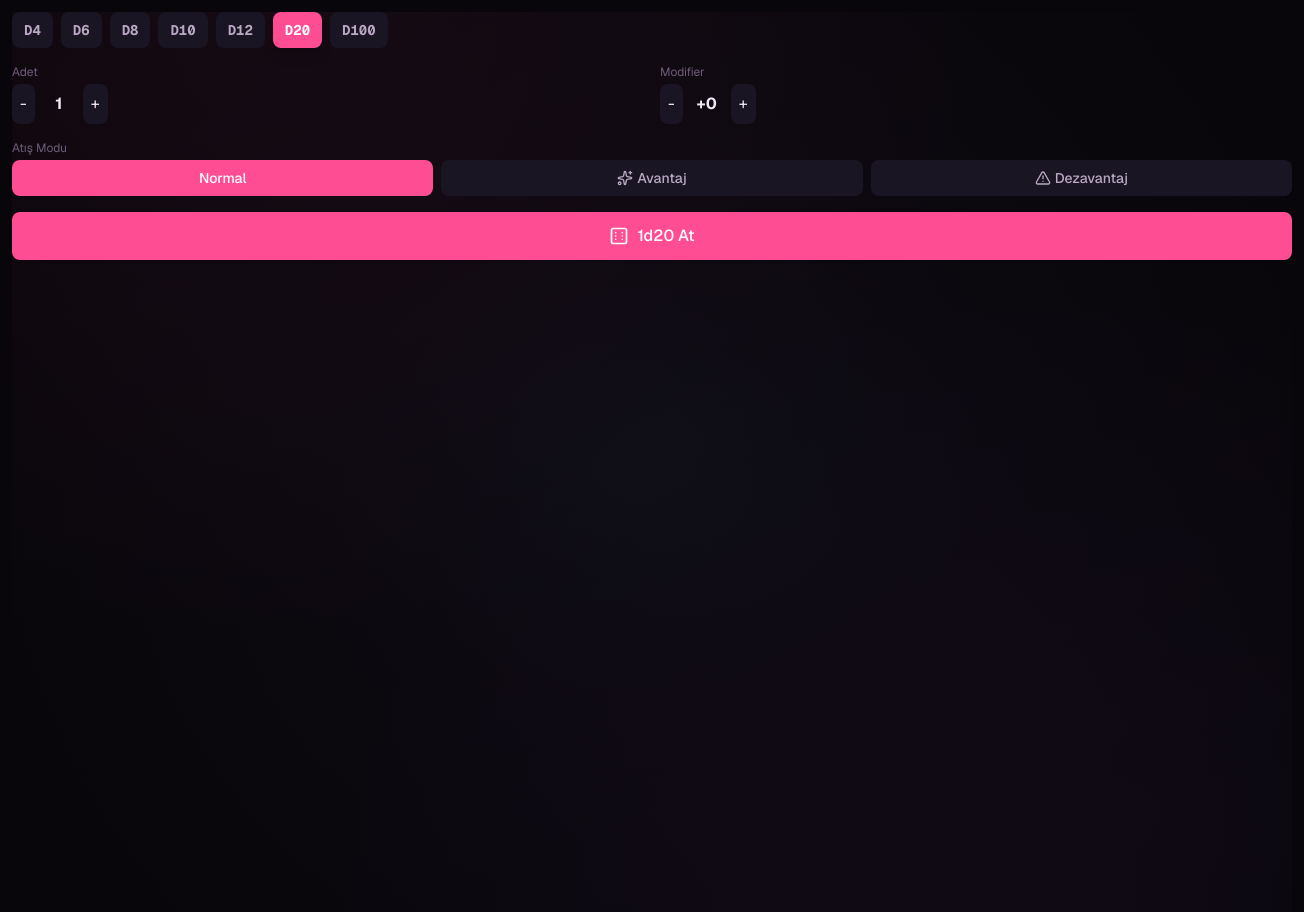
DiceRoller › increments count when + is clicked
# Select d6 first so advantage mode buttons don't show
Click the button "D6".
click(81, 30)  # box top-left (61, 12), bottom-right (102, 48)
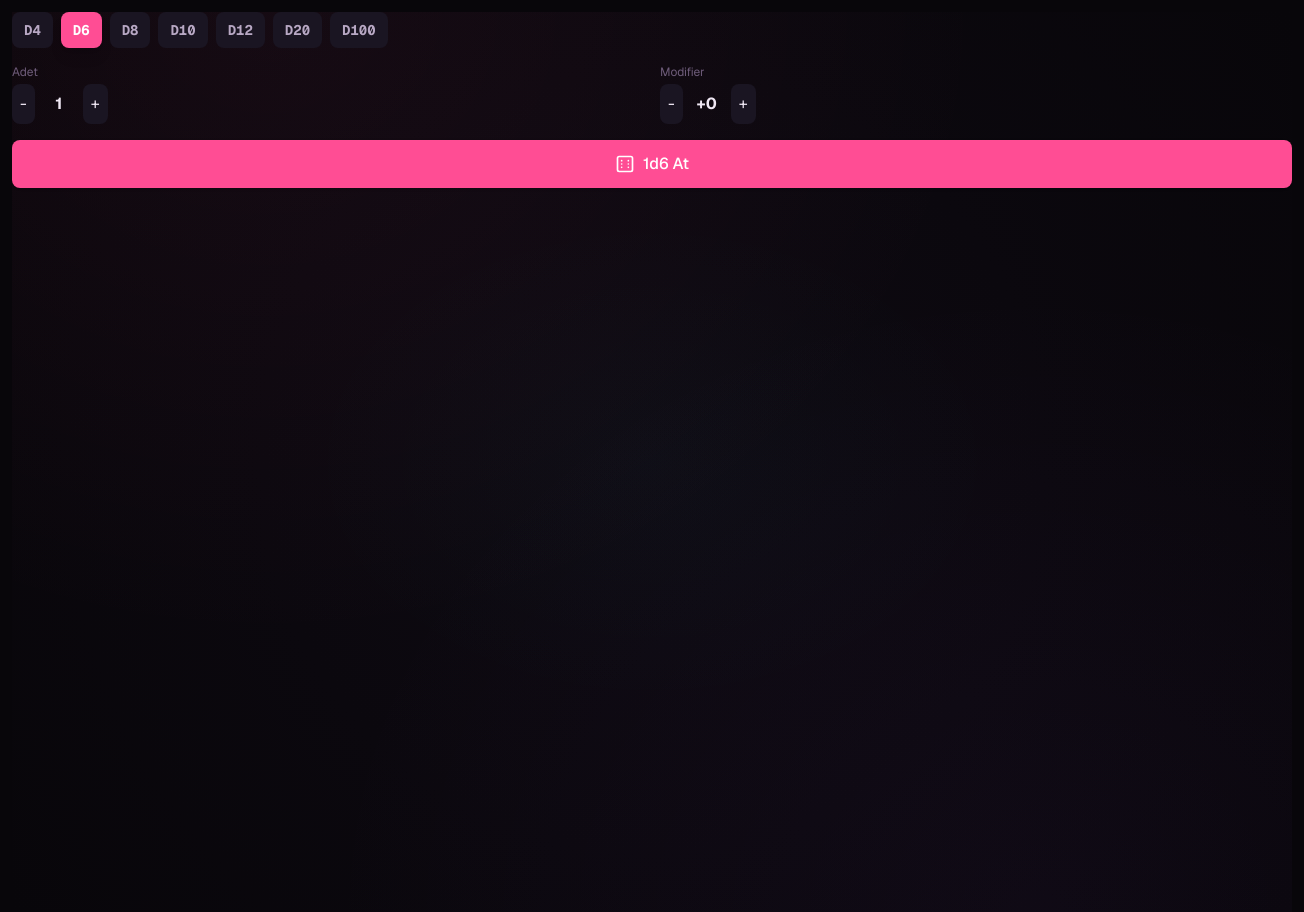
Click the button "+" below "Adet".
click(95, 104)  # box top-left (83, 84), bottom-right (108, 124)
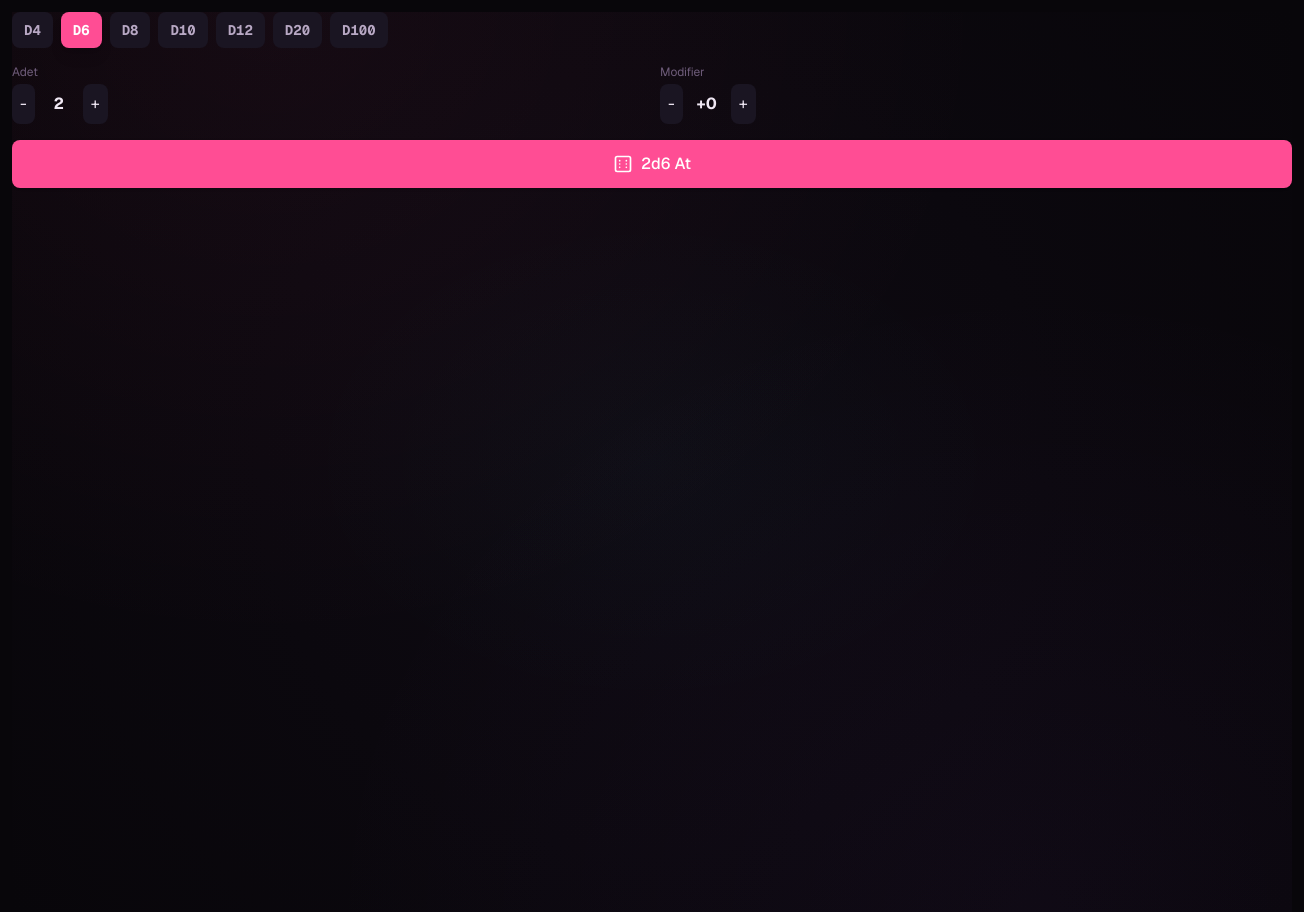
Expected: the button "2d6 At" is shown, top-left (12, 140), bottom-right (1292, 188)
